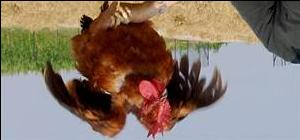hen: (42, 1, 227, 139)
